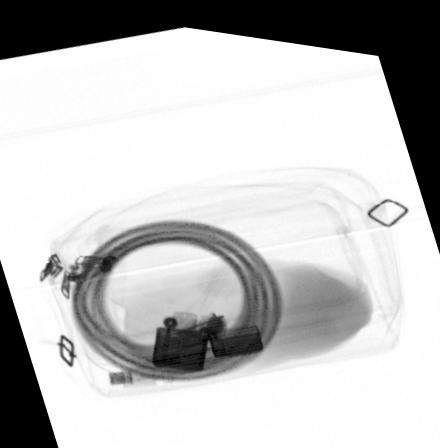Lighter: (151, 305, 264, 365)
